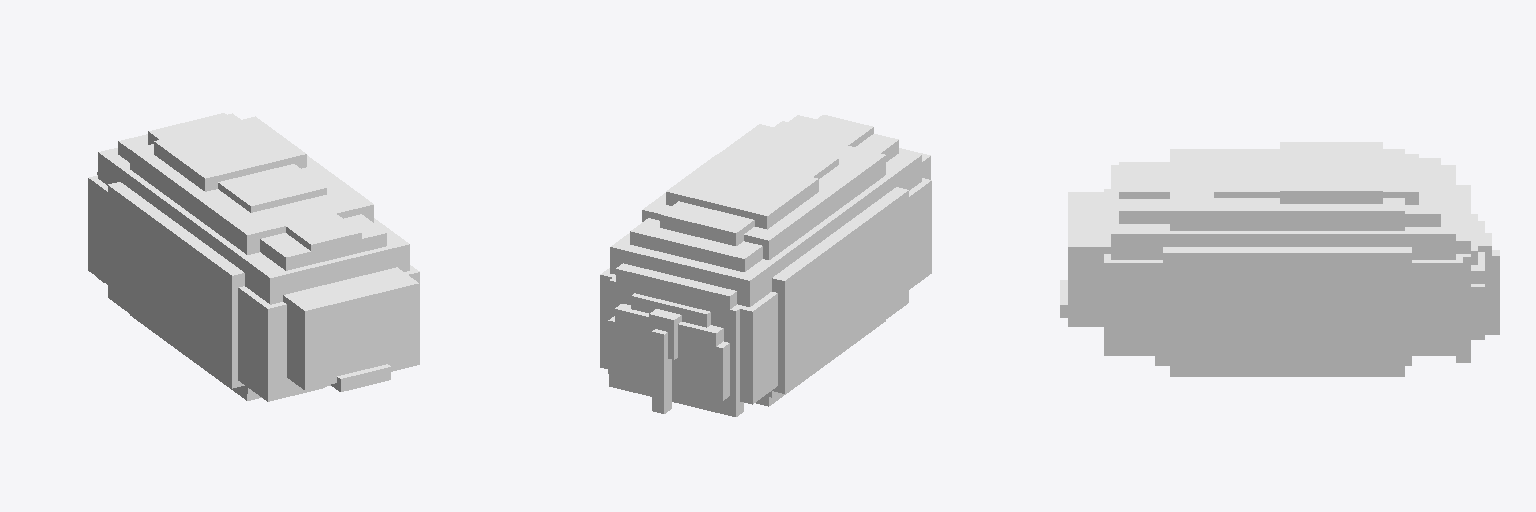
File: amphibius_body.obj
The picture shows the model from 3 angles: view 1: azimuth 30°, elevation 25°; view 2: azimuth 150°, elevation 25°; view 3: azimuth 270°, elevation 25°; orthographic projection.
Parts seen in each view (by area): view 1: Element #9, Element #26, Element #36, Element #11, Element #41, Element #1, Element #35, Element #12, Element #34, Element #10, Element #13, Element #33 (+1 smaller); view 2: Element #9, Element #36, Element #11, Element #14, Element #35, Element #10, Element #2, Element #3, Element #8, Element #34, Element #7, Element #41 (+7 smaller); view 3: Element #9, Element #36, Element #11, Element #17, Element #26, Element #10, Element #35, Element #34, Element #3, Element #1, Element #8, Element #13 (+5 smaller).
Part boxes in pixels (x1,y1,x2,y2): Element #9: (108,182,244,388); Element #26: (283,267,418,390); Element #36: (130,144,373,400); Element #11: (154,116,306,191); Element #41: (238,286,324,401); Element #1: (248,228,409,304); Element #35: (148,113,326,212); Element #12: (260,214,386,270); Element #34: (120,166,386,394); Element #10: (88,175,107,284); Element #13: (286,214,361,257); Element #33: (331,364,390,391); Element #9: (772,187,908,393); Element #36: (642,124,885,406); Element #11: (666,154,818,229); Element #14: (608,316,729,400); Element #35: (660,140,838,245); Element #10: (600,268,777,404); Element #2: (609,276,743,416); Element #3: (610,233,771,306); Element #8: (630,218,762,271); Element #34: (760,168,899,397); Element #7: (616,263,736,309); Element #41: (909,178,931,289); Element #9: (1163,247,1411,365); Element #36: (1170,149,1404,376); Element #11: (1280,142,1382,203); Element #17: (1104,254,1162,355); Element #26: (1068,192,1110,326); Element #10: (1412,254,1462,355); Element #35: (1214,154,1418,204); Element #34: (1155,224,1411,365); Element #3: (1412,165,1455,259); Element #1: (1111,165,1154,259); Element #8: (1405,158,1440,226); Element #13: (1119,167,1169,198).
Bounding box in the file's own units: 13 × 13.5 × 30.